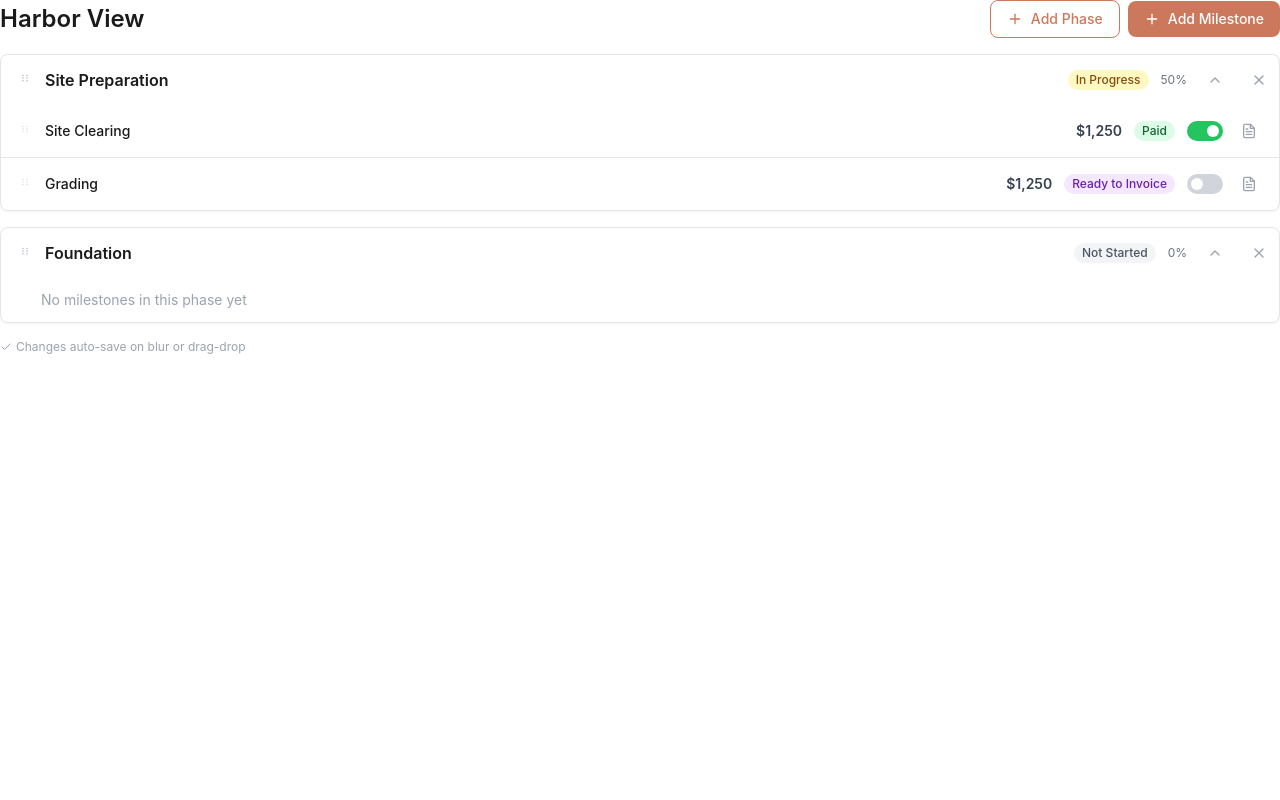
Test: ScheduleBuilderPage › submits Add Phase form and appends new phase to the list
The image size is (1280, 800).
Click the button labelled "Add Phase" at [1055, 19], box [990,0,1120,38]
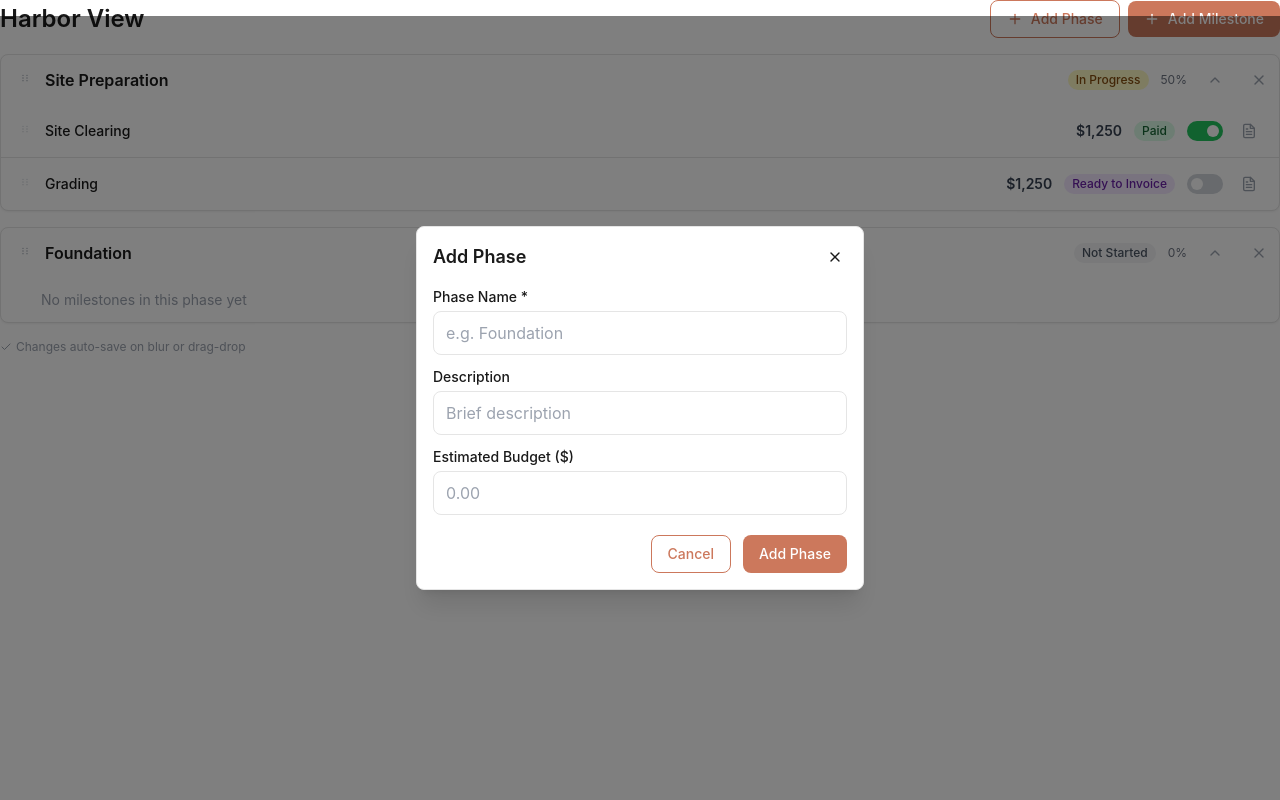
Expected: the field labelled "Phase Name *" is shown
Type "Roofing" into the field labelled "Phase Name *" at [640, 333], box [433,311,847,355]
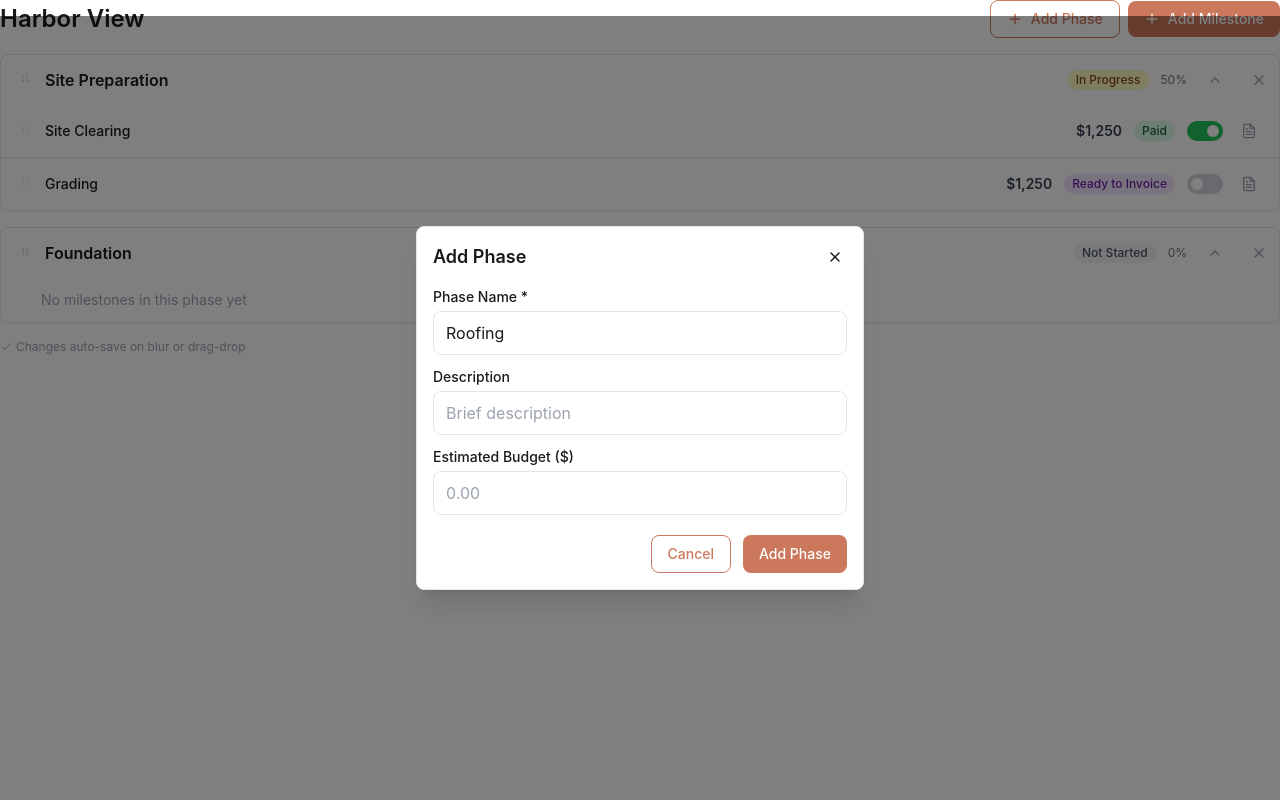
Click the button "Add Phase" at [795, 554], box [743,535,847,573]
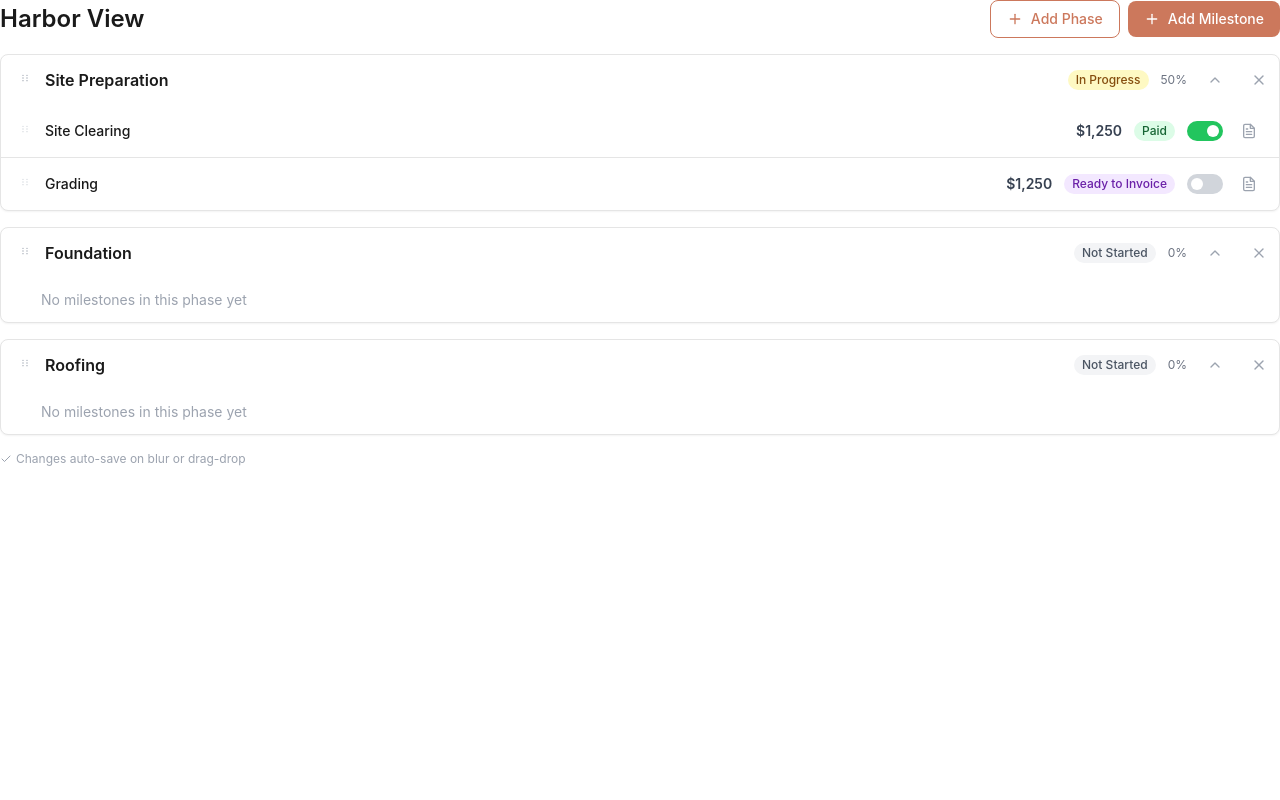
Expected: the text "Roofing" is shown, [45,355,105,375]
